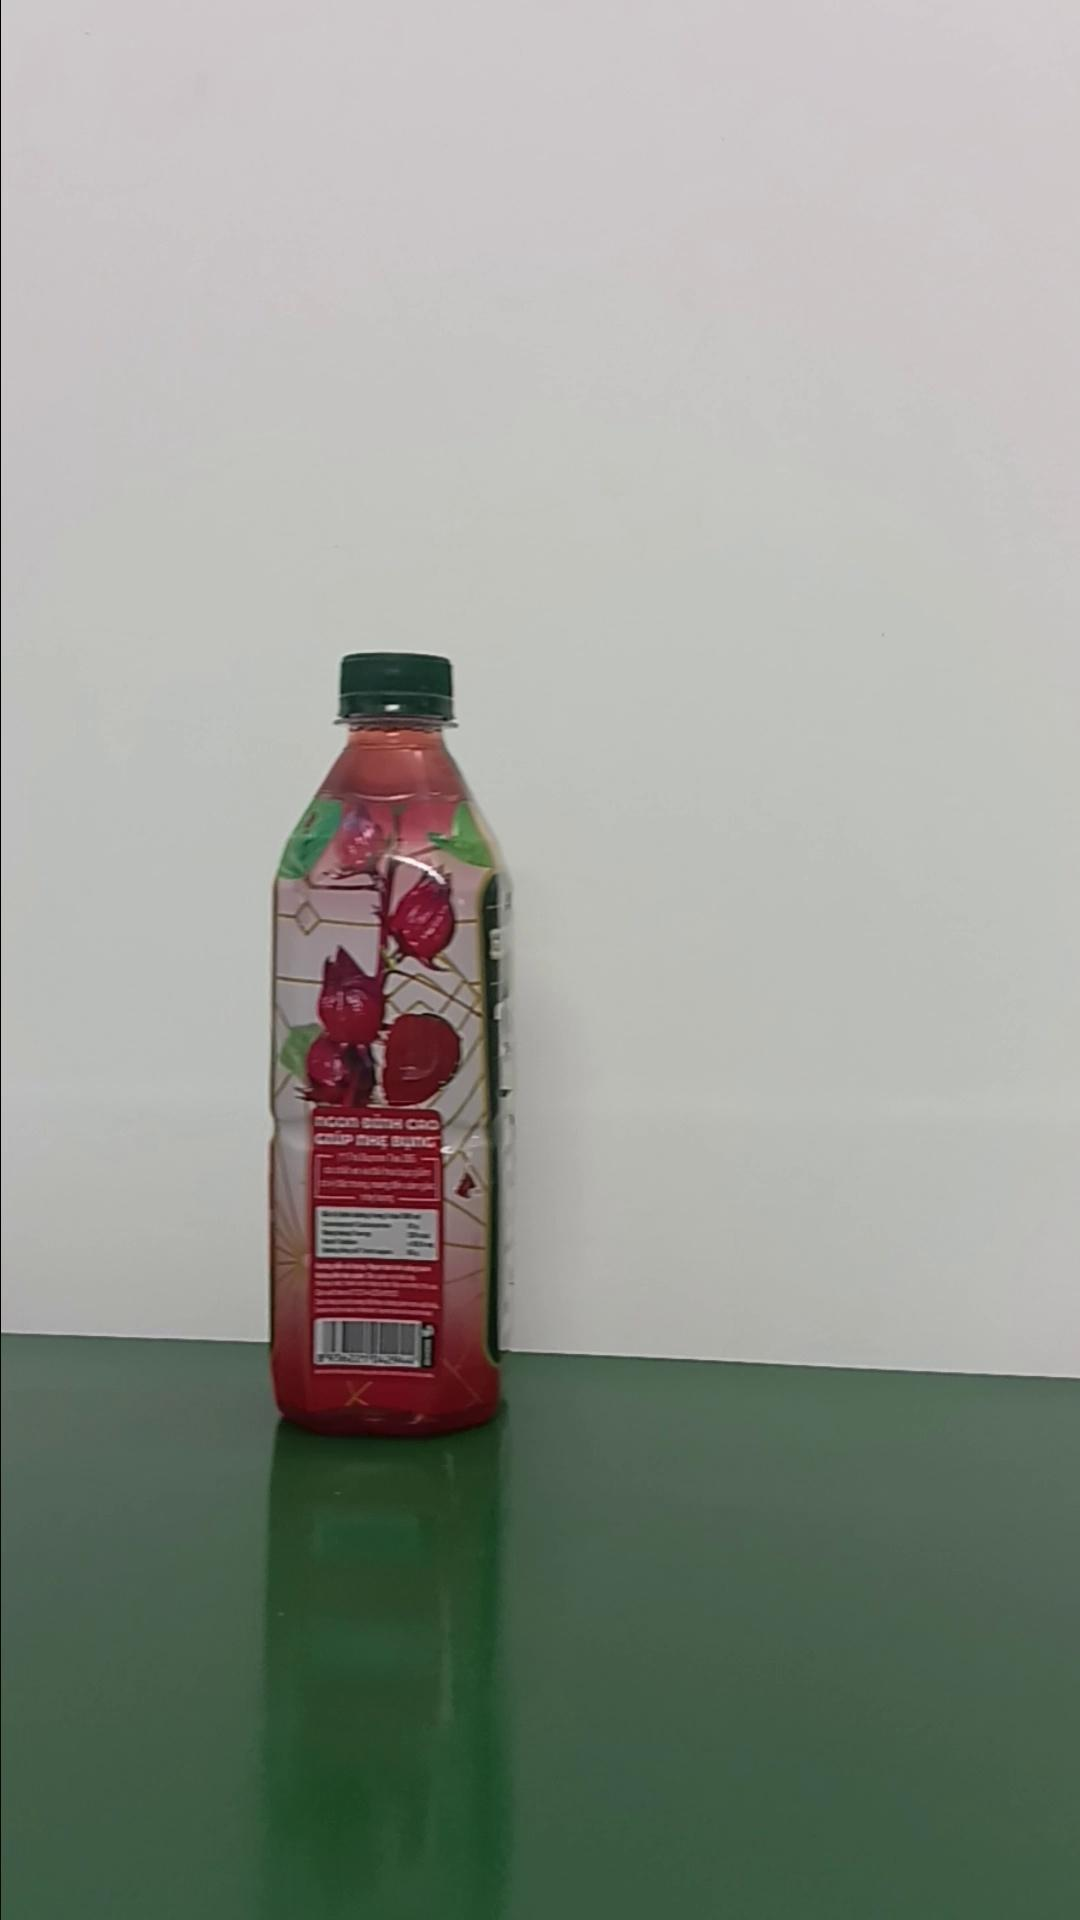loi rach va lap chai: (257, 647, 518, 1449)
